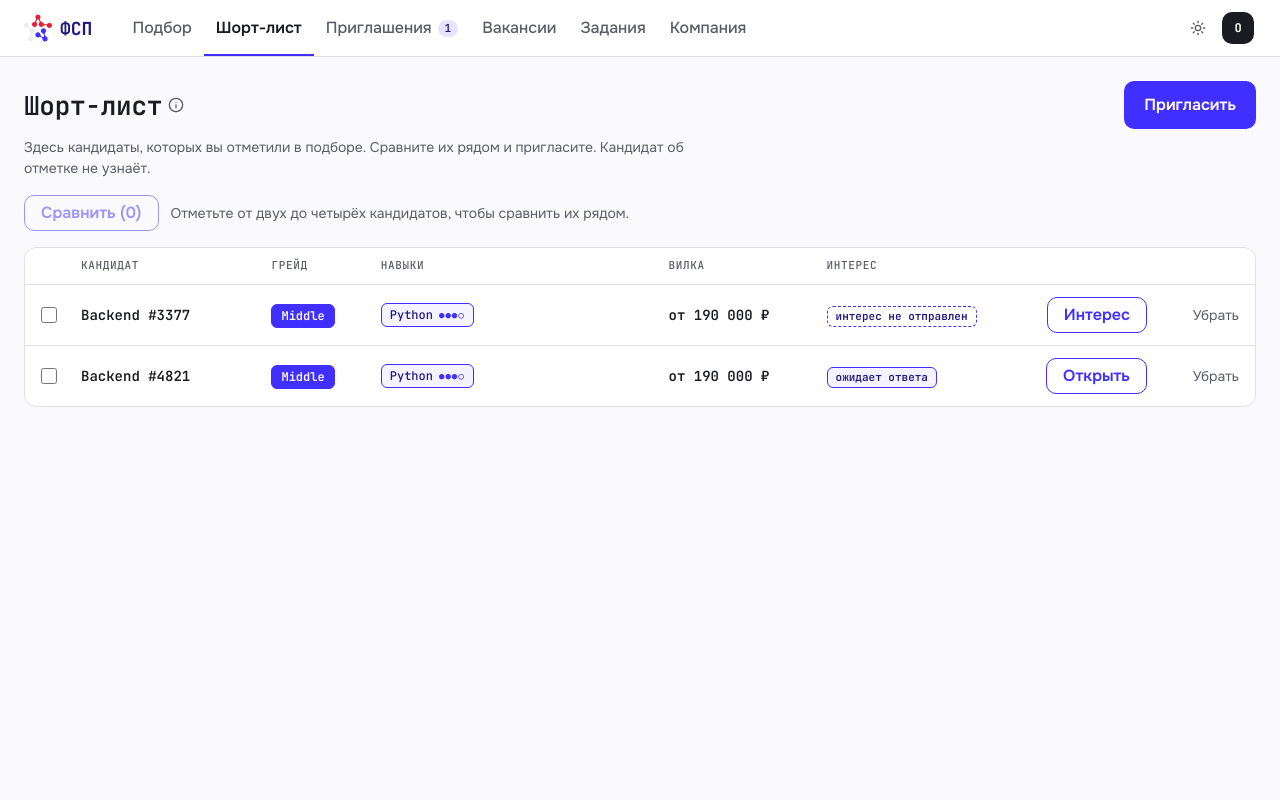
сравнение: нужно двое, показывает признаки рядом
Expected: the button "Сравнить (0)" is disabled, [24,195,158,231]
What coordinates should you click on to do the following:
click the 1st checkbox with test id "shortlist-pick"
I would click on:
 (49, 315)
Its box is [41,307,57,323].
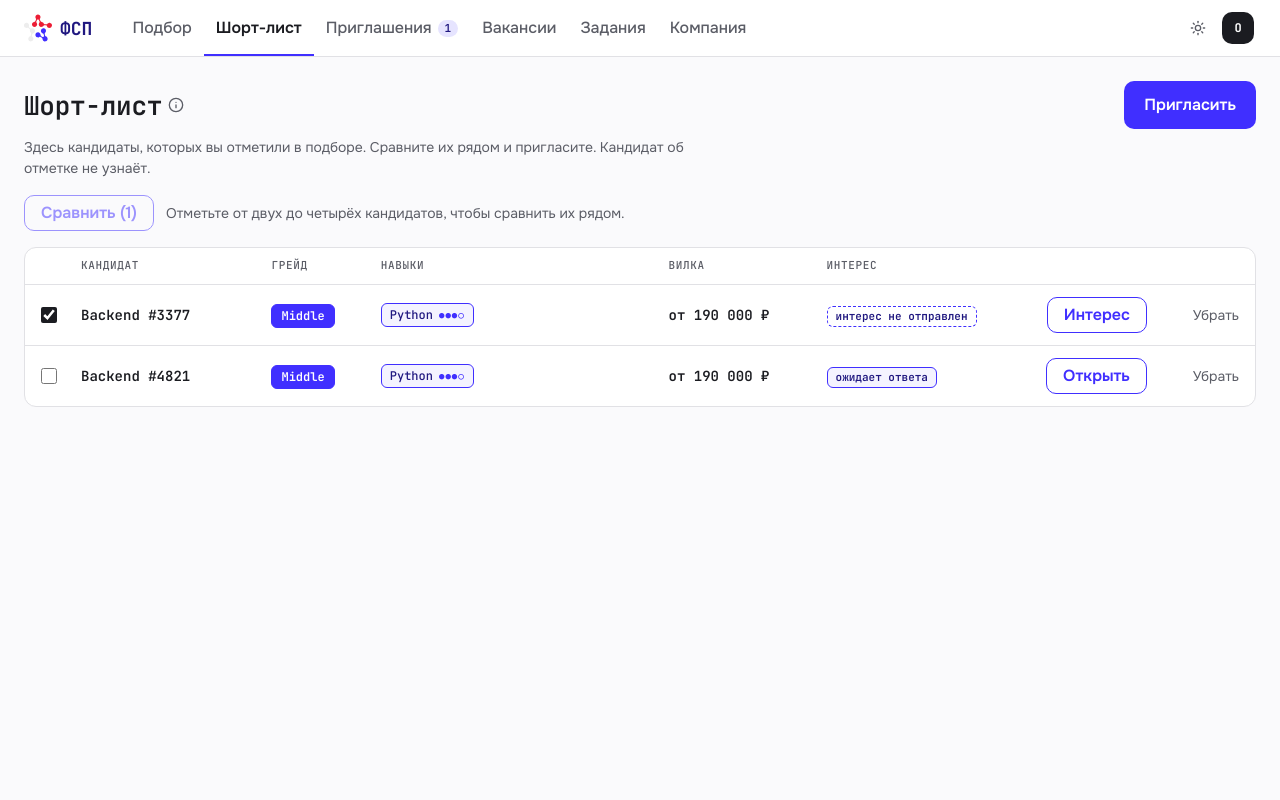
Expected: the button "Сравнить (1)" is disabled, [24,195,154,231]
What coordinates should you click on to do the following:
click the 2nd checkbox with test id "shortlist-pick"
I would click on:
 (49, 376)
Its box is [41,368,57,384].
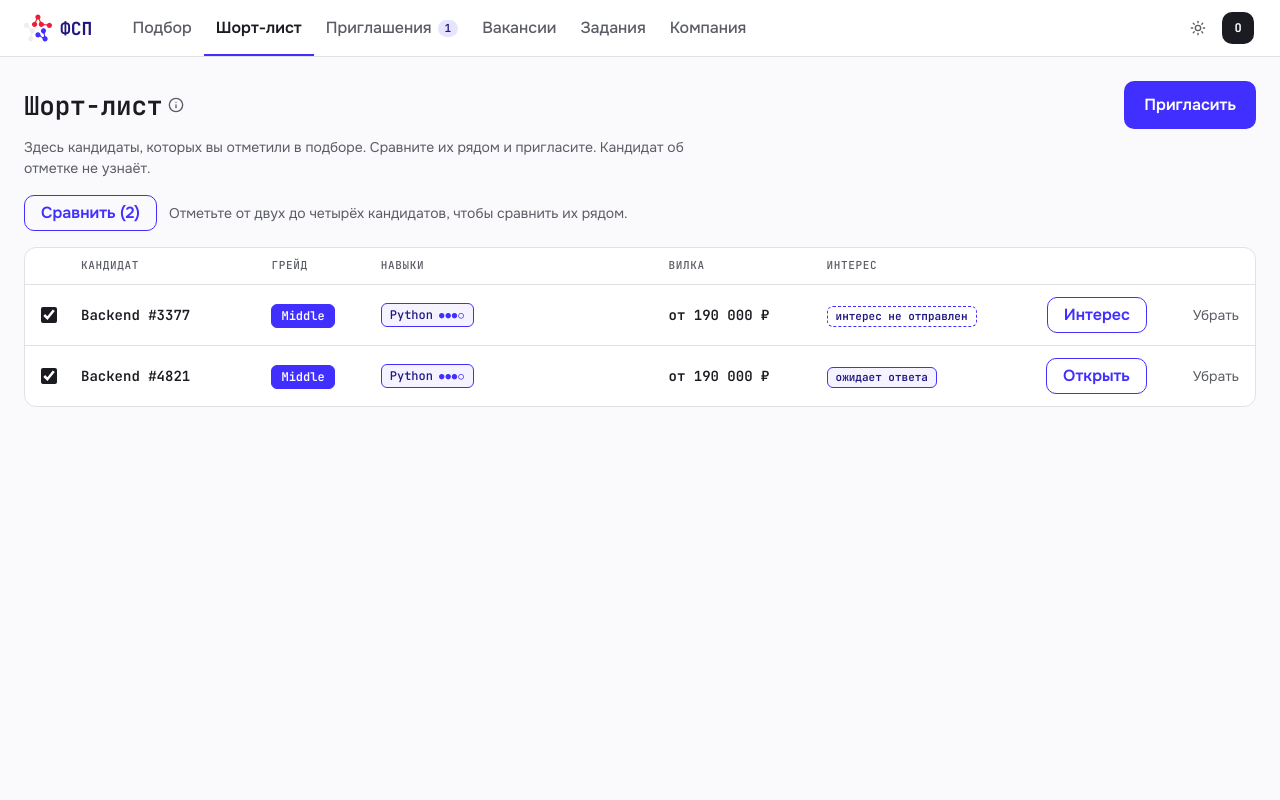
Now the button "Сравнить (2)" is enabled
What coordinates should you click on to do the following:
click the button "Сравнить (2)"
I would click on:
 (90, 213)
Its box is [24,195,157,231].
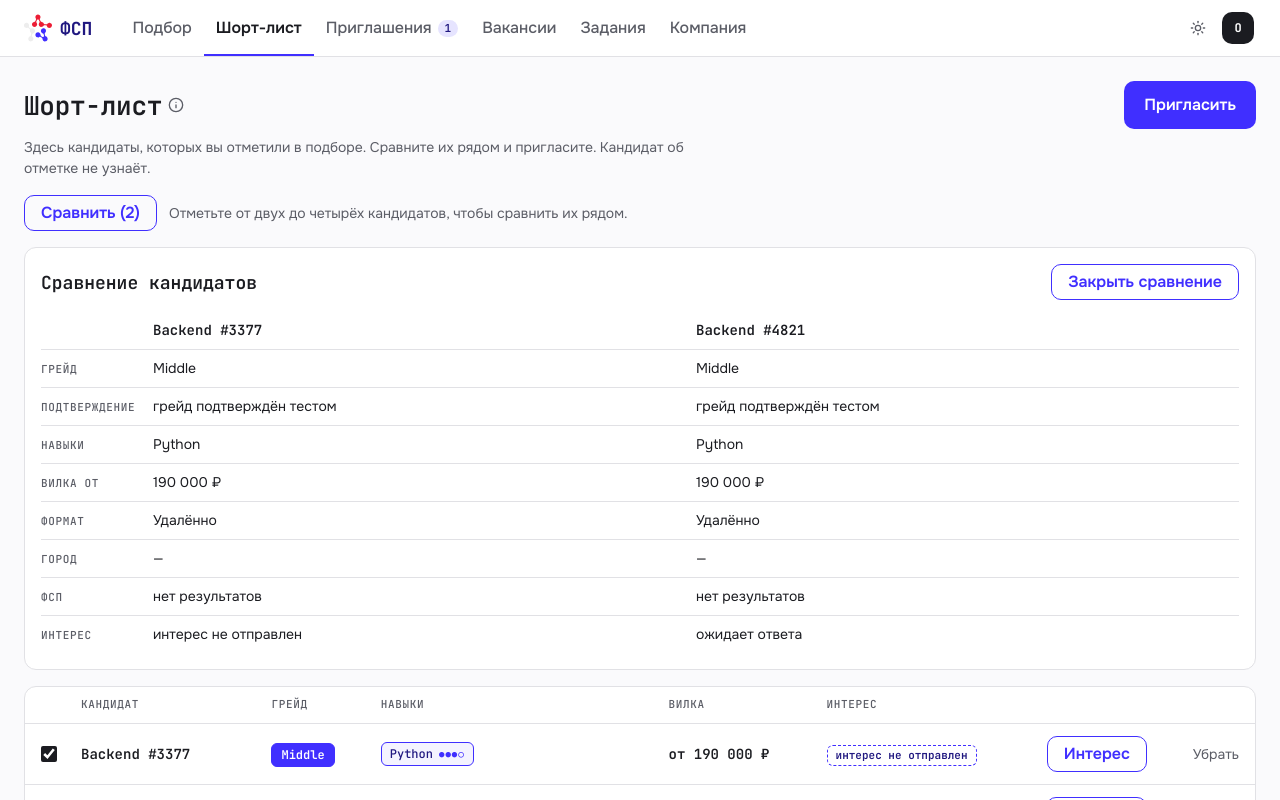
Now the text "Вилка от" is shown, box [41,476,99,490]
Now the text "Python" is shown 2 times, box [153,426,696,464]; [696,426,1239,464]
What coordinates should you click on to do the following:
click the button "Закрыть сравнение"
I would click on:
 (1145, 282)
Its box is [1051,264,1239,300].
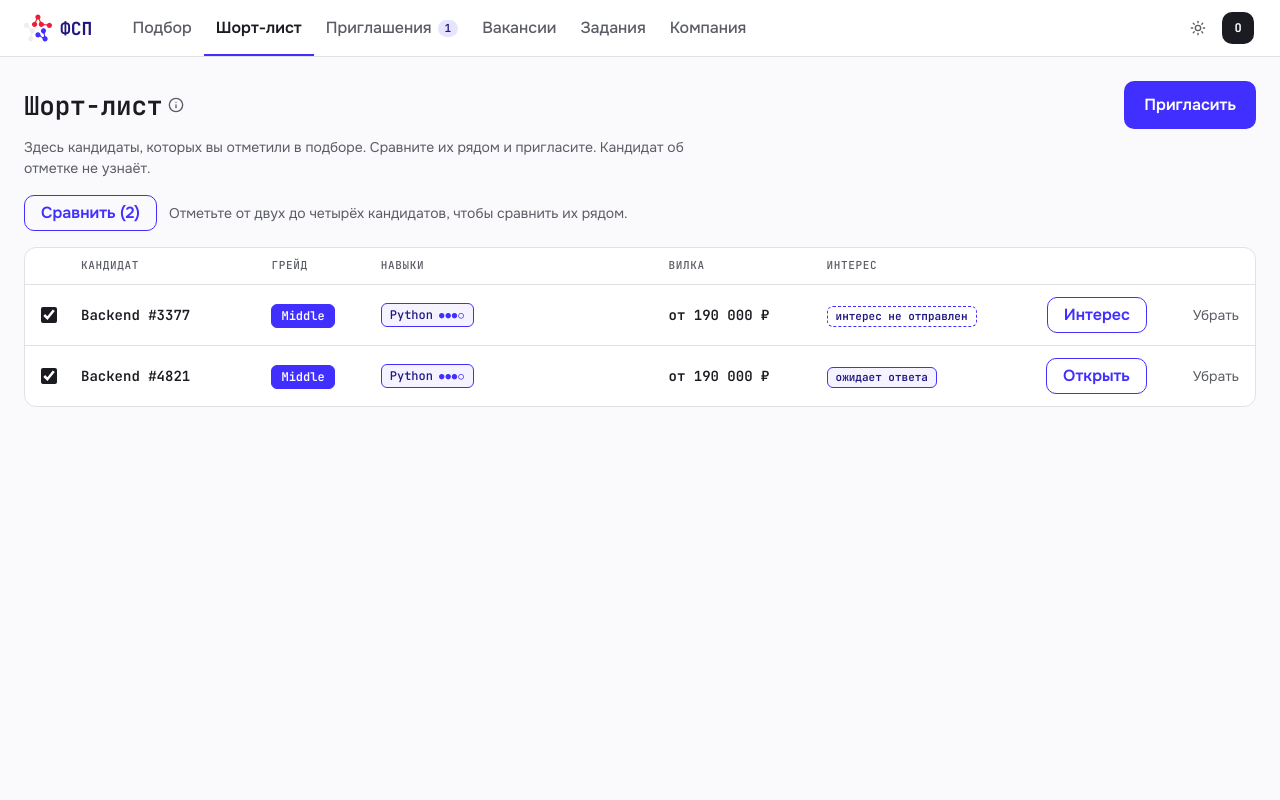
Now the element with test id "shortlist-compare" is gone
